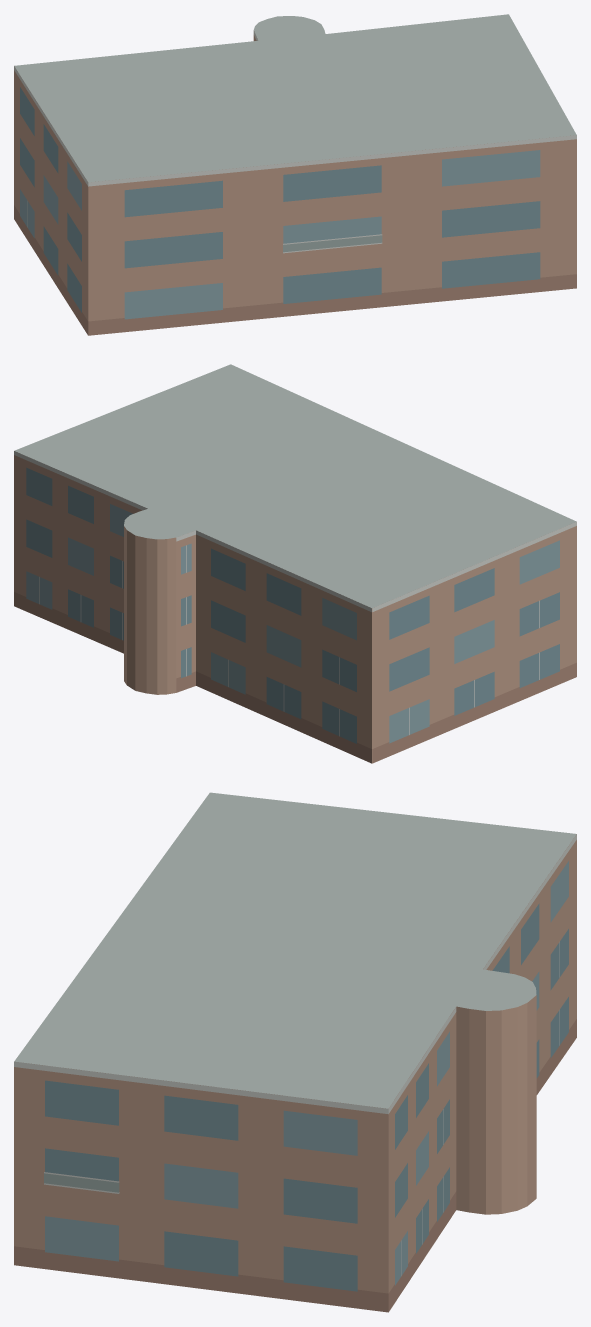
The model's file is survey-upis-32860482.glb.
3 renders of one model, top to bottom at view 1: azimuth 30°, elevation 25°; view 2: azimuth 150°, elevation 25°; view 3: azimuth 270°, elevation 25°, orthographic. The views are drawn at different scales.
Parts seen in each view (by area): view 1: survey-upis-32860482.tmp; view 2: survey-upis-32860482.tmp; view 3: survey-upis-32860482.tmp.
Boxes of the visible parts, box(x1,y1,x2,y2) form: survey-upis-32860482.tmp: box(14, 14, 576, 335); survey-upis-32860482.tmp: box(14, 364, 576, 763); survey-upis-32860482.tmp: box(14, 792, 576, 1312).
Size of the model in its own units: 30.49 by 9.15 by 22.93.
